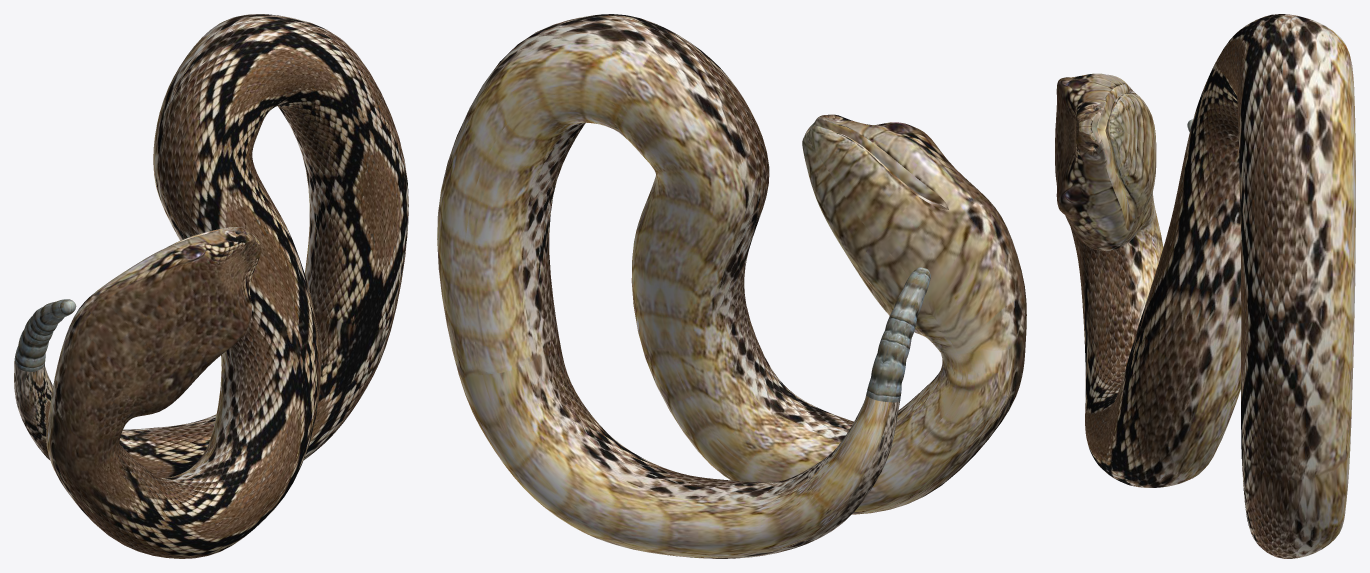
File: rattlesnake.obj
3 views of the same model, side by side, from view 1: azimuth 30°, elevation 25°; view 2: azimuth 150°, elevation 25°; view 3: azimuth 270°, elevation 25° (orthographic). The views are drawn at different scales.
Parts seen in each view (by area): view 1: 10050_RattleSnake_v04; view 2: 10050_RattleSnake_v04; view 3: 10050_RattleSnake_v04.
Boxes of the visible parts, x1=… form: 10050_RattleSnake_v04: x1=14, y1=14, x2=408, y2=558; 10050_RattleSnake_v04: x1=437, y1=14, x2=1026, y2=558; 10050_RattleSnake_v04: x1=1055, y1=14, x2=1355, y2=558.
Size of the model in its own units: 34.51 by 35.54 by 18.41.
Materials: 1 (1 with a texture image).
